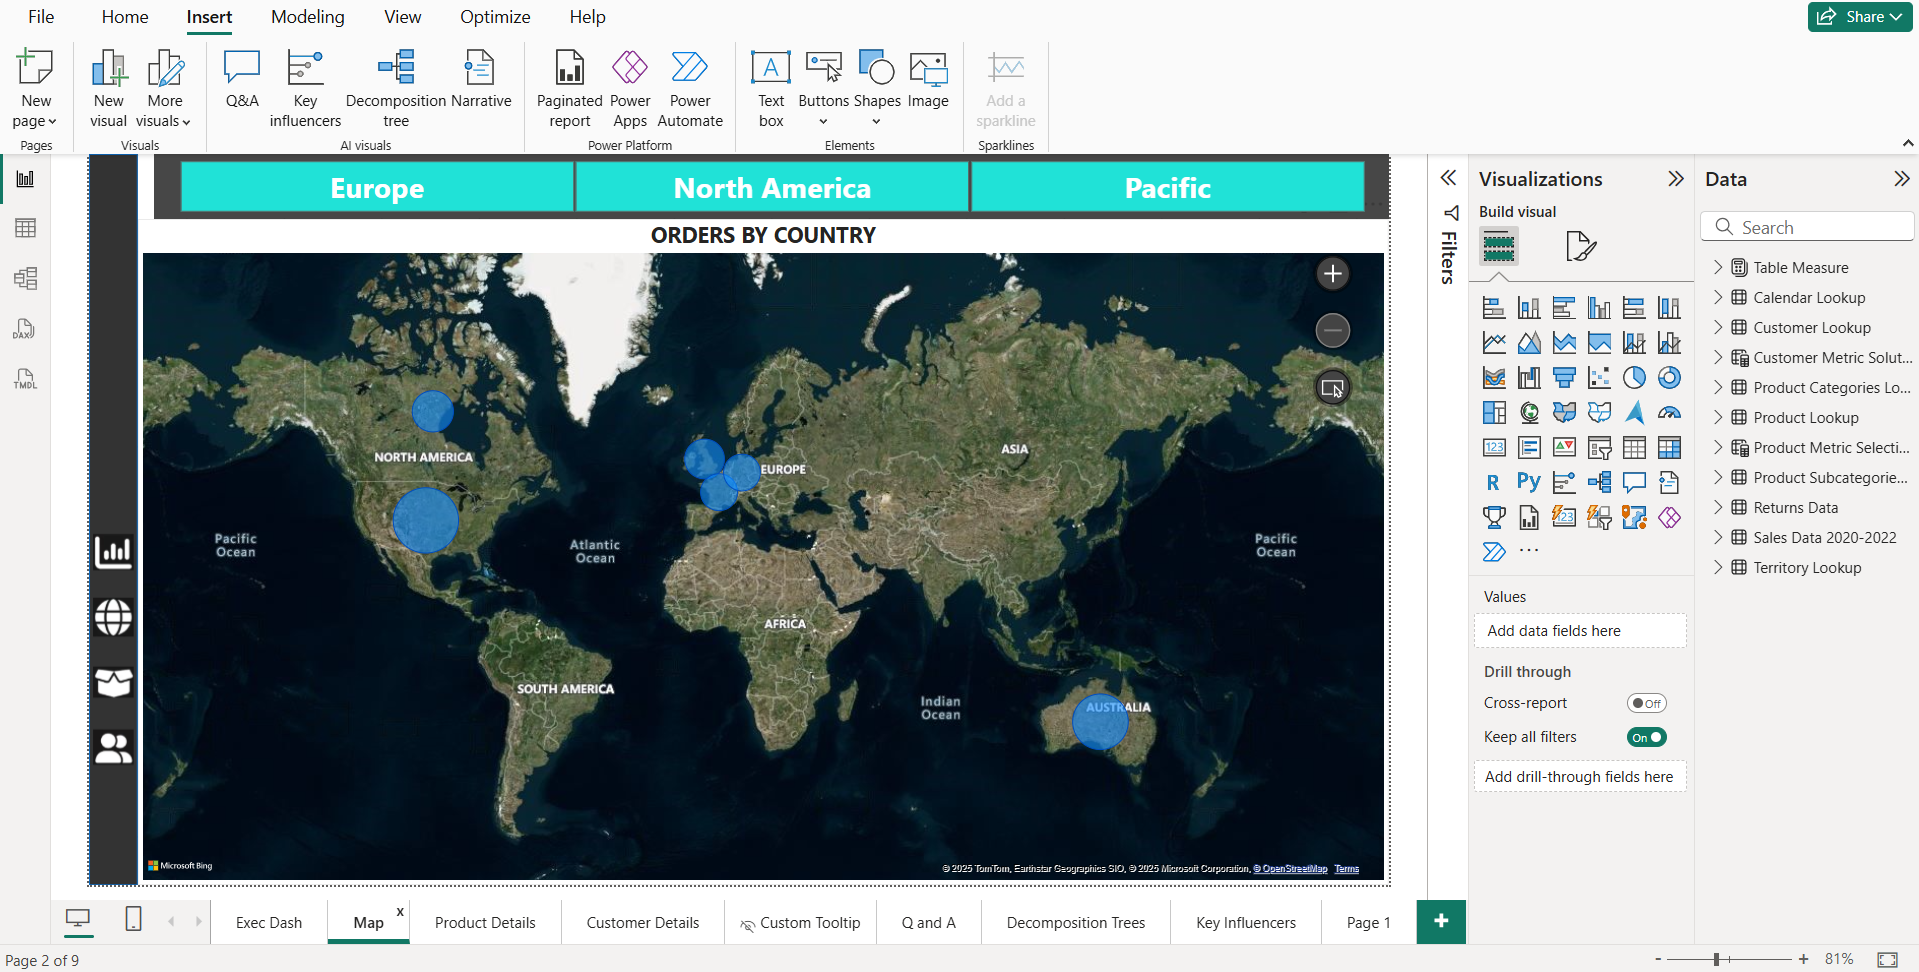

The page's visual inventory and layout, read from the dashboard file:
{"tool":"powerbi","page":{"name":"Map","canvas":[1280,720],"ordinal":1},"visuals":[{"type":"map","title":"ORDERS BY COUNTRY","fields":{"Category":["Territory Lookup.Country"],"Size":["Table Measure.Total Orders"]},"box":[48,64,1232,656],"z":0},{"type":"actionButton","box":[0,368,48,48],"z":0,"group":"g1"},{"type":"slicer","fields":{"Values":["Territory Lookup.Continent"]},"box":[48,0,1232,64],"z":1000},{"type":"actionButton","box":[0,432,48,48],"z":1000,"group":"g1"},{"type":"shape","title":"Left Nav Bar","box":[0,0,48,720],"z":2000},{"type":"actionButton","box":[0,496,48,48],"z":2000,"group":"g1"},{"type":"actionButton","box":[0,560,48,48],"z":3000,"group":"g1"},{"type":"group","id":"g1","title":"Custom Navigation Buttons","box":[0,368,48,240],"z":3002}]}

Visuals, with their boxes on the page's 1280x720 design canvas (x1, y1, x2, y2). These are canvas units, not pixel positions in the 1919x972 screenshot, which may show the page scaled, cropped or inside an application window:
"ORDERS BY COUNTRY" map: bbox=(48, 64, 1280, 720)
actionButton: bbox=(0, 368, 48, 416)
slicer - Territory Lookup.Continent: bbox=(48, 0, 1280, 64)
actionButton: bbox=(0, 432, 48, 480)
"Left Nav Bar" shape: bbox=(0, 0, 48, 720)
actionButton: bbox=(0, 496, 48, 544)
actionButton: bbox=(0, 560, 48, 608)
"Custom Navigation Buttons" group: bbox=(0, 368, 48, 608)
